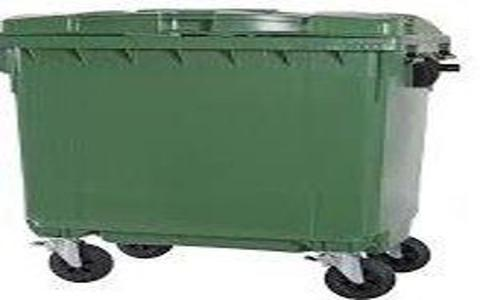Proper garbage: (1, 1, 461, 298)
